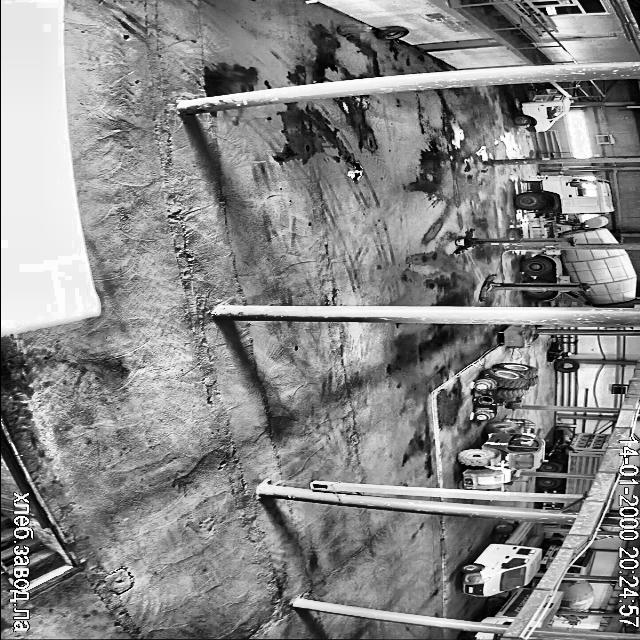car lift: (479, 274, 588, 300), (455, 229, 572, 252)
tractor: (459, 418, 544, 489), (475, 363, 537, 420)
truck: (516, 176, 616, 244), (523, 248, 636, 306), (460, 521, 540, 596), (540, 433, 611, 472), (515, 93, 571, 130), (483, 588, 532, 623), (558, 580, 594, 610), (537, 477, 591, 494), (539, 592, 562, 628), (541, 536, 563, 569), (567, 549, 595, 574), (542, 500, 580, 510), (466, 632, 500, 640), (480, 616, 510, 624), (564, 616, 582, 620)
